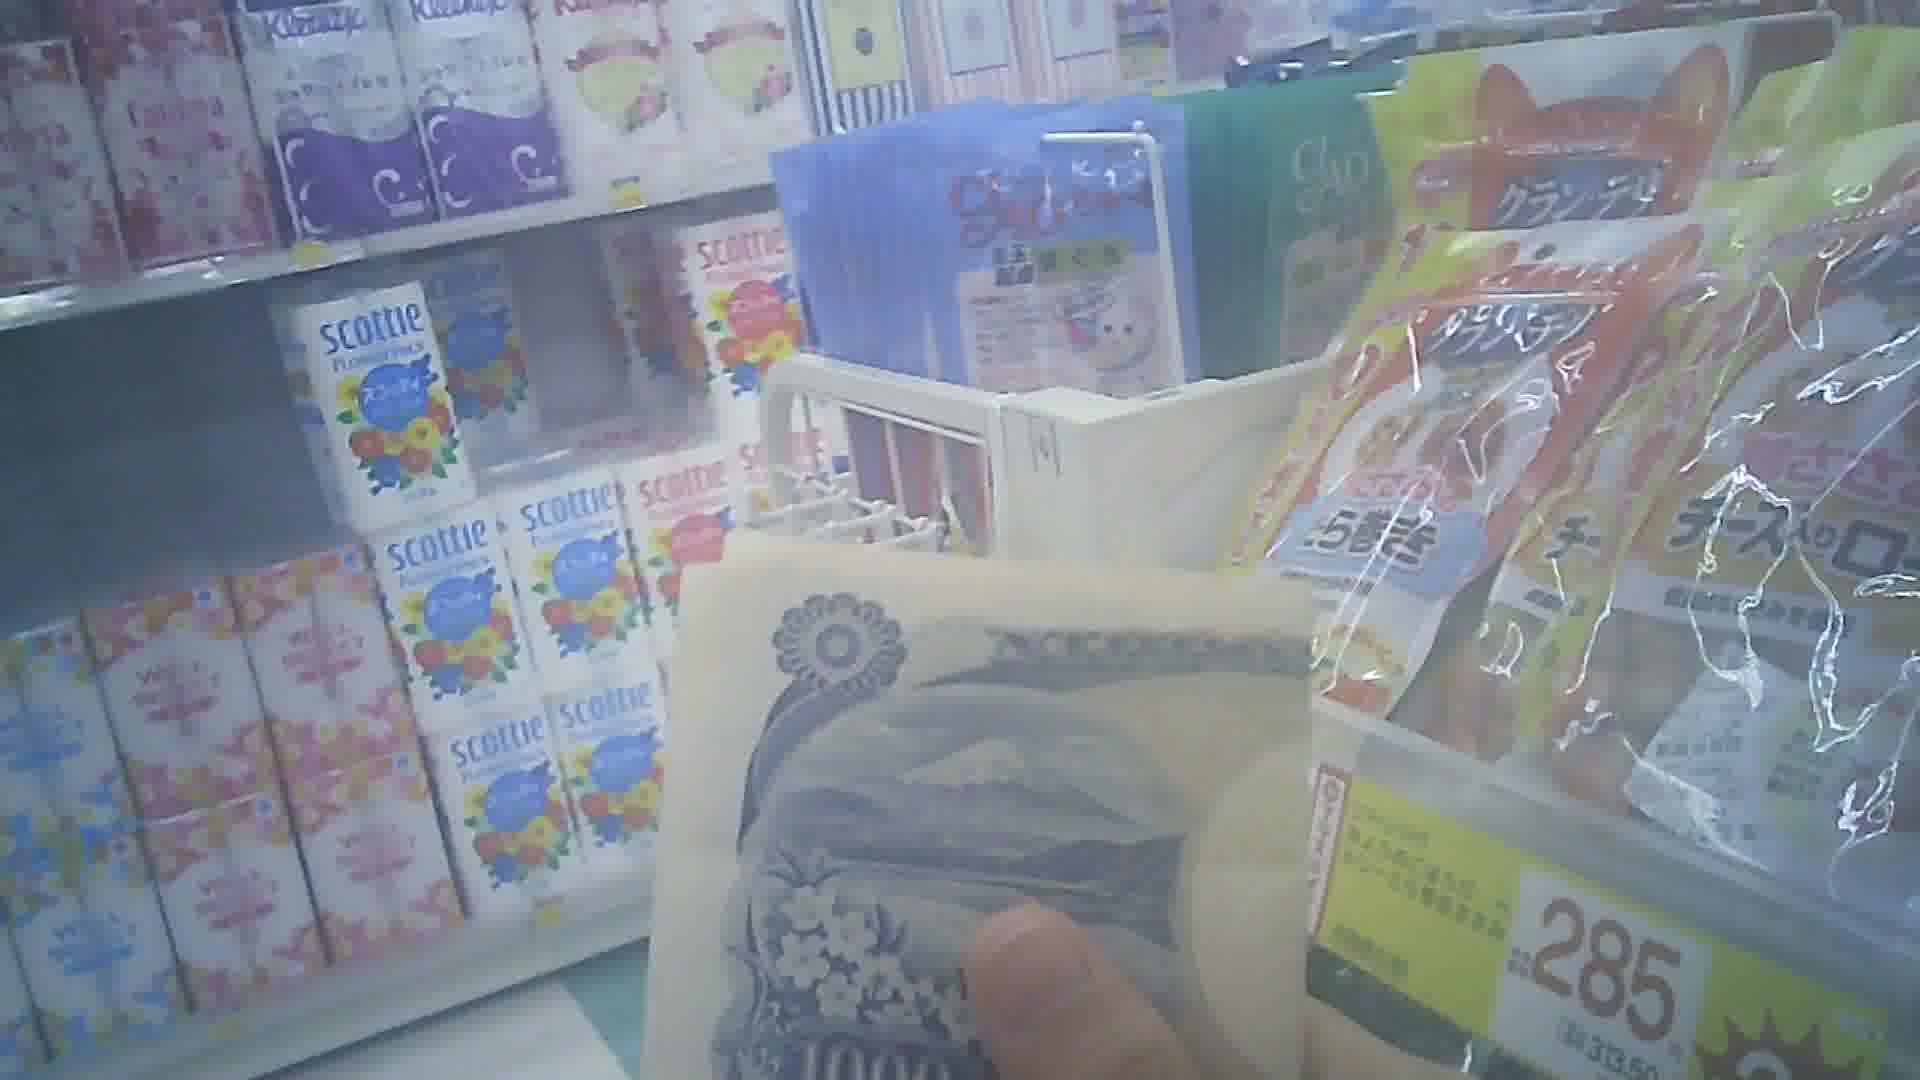1,000 Yen: (646, 517, 1338, 1065)
